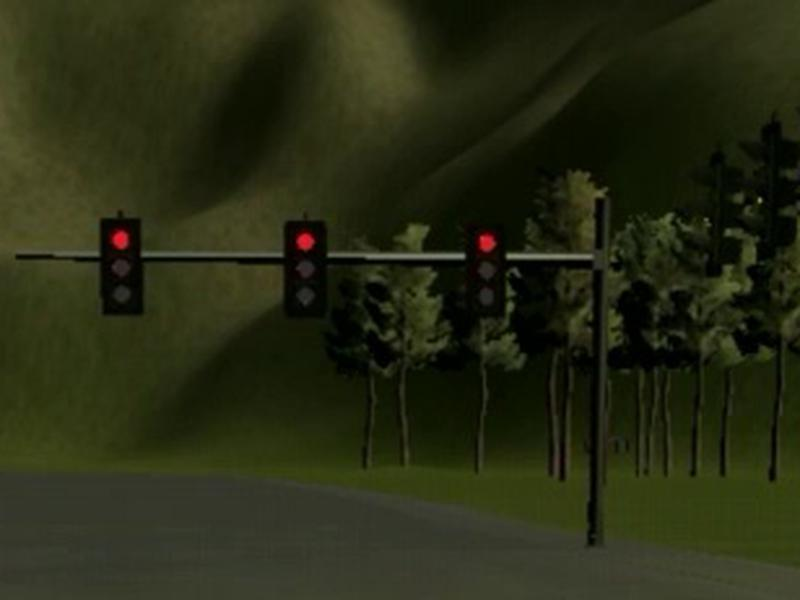Red: (283, 220, 327, 320), (99, 217, 143, 316), (465, 219, 506, 319)
